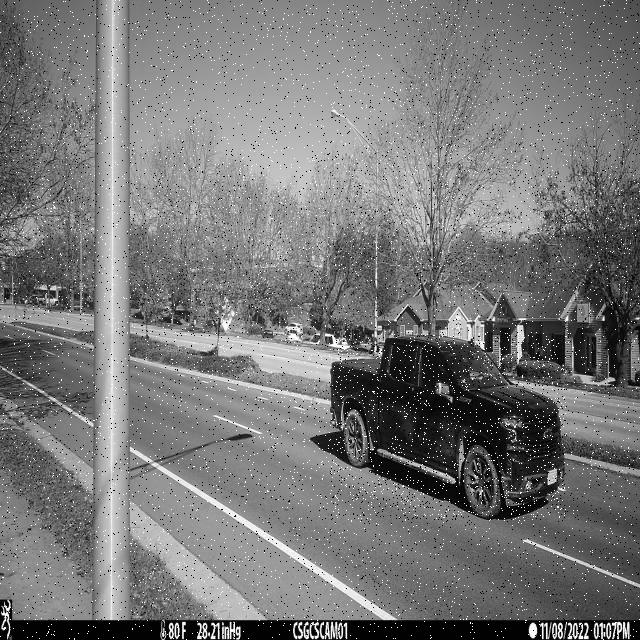Pickup: (330, 333, 566, 521)
